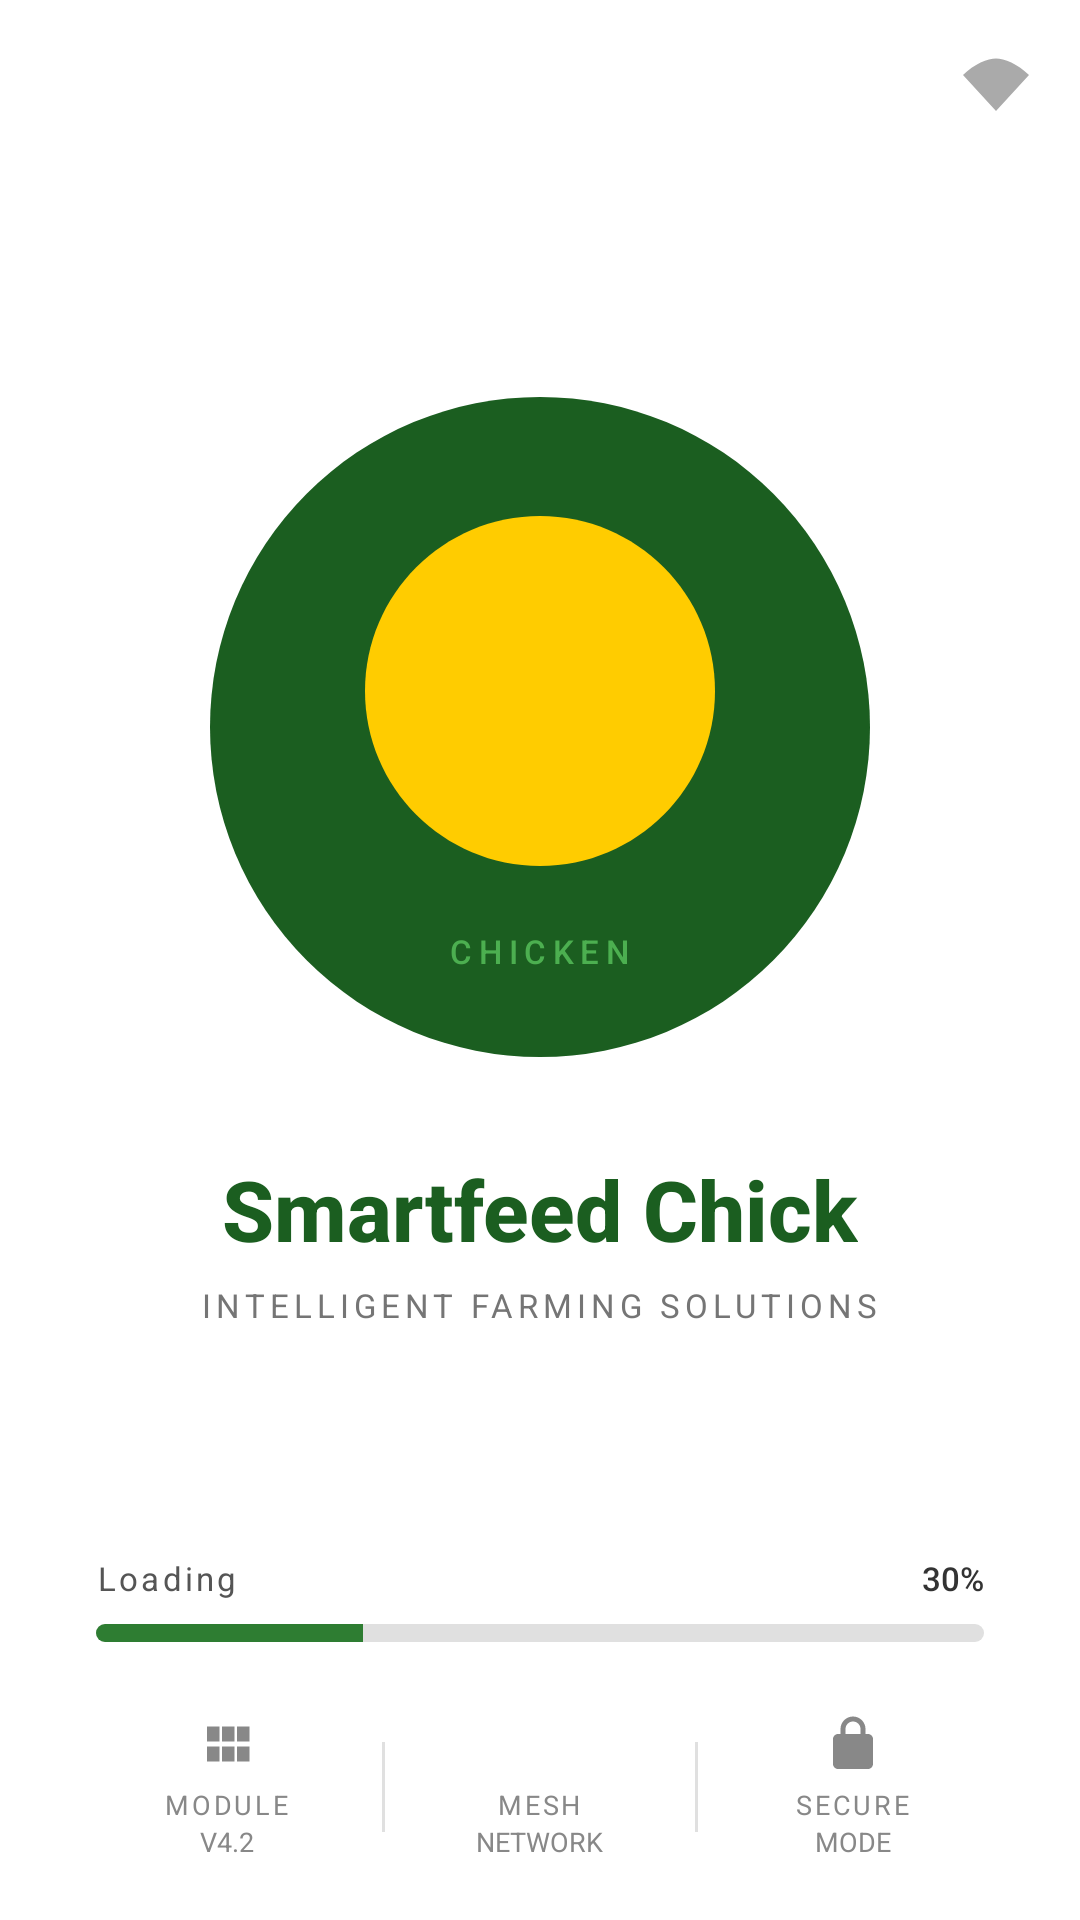

Named icons in this screenshot (1080w x 1920h) and their centers, (x=x, y=y):
wifi: (x=996, y=84)
